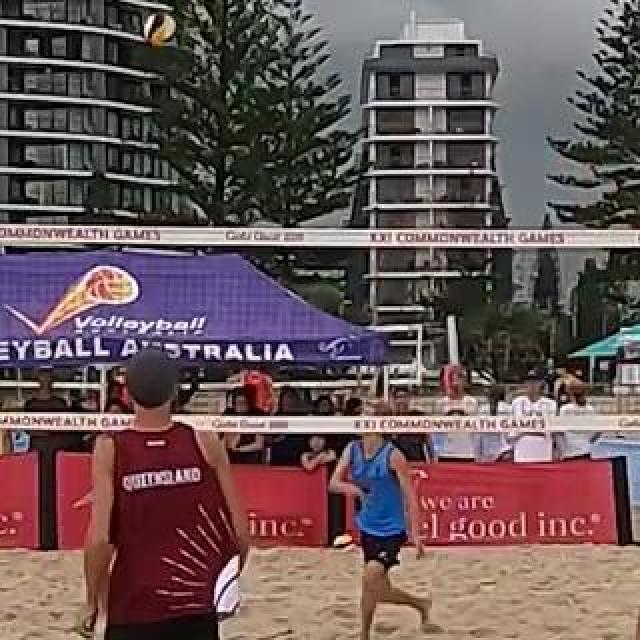volleyball: (145, 12, 177, 44)
